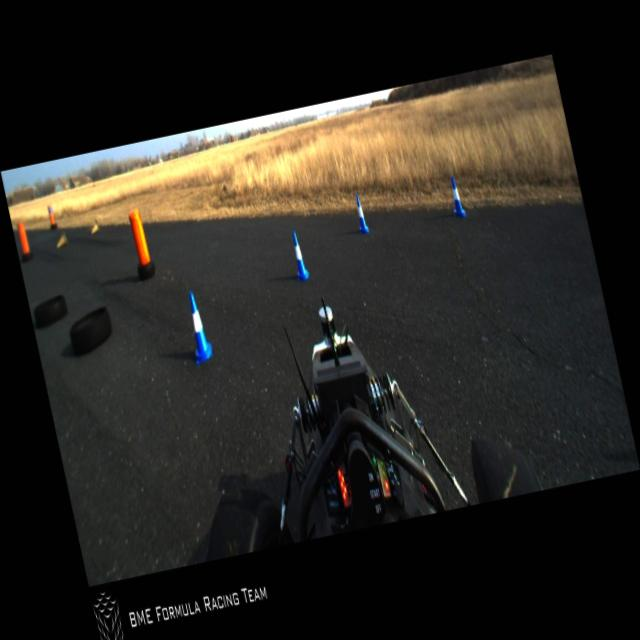blue_cone: (180, 288, 214, 365), (287, 228, 310, 282), (446, 175, 466, 218), (352, 194, 370, 235)
unknown_cone: (54, 229, 68, 247), (88, 219, 100, 236)
